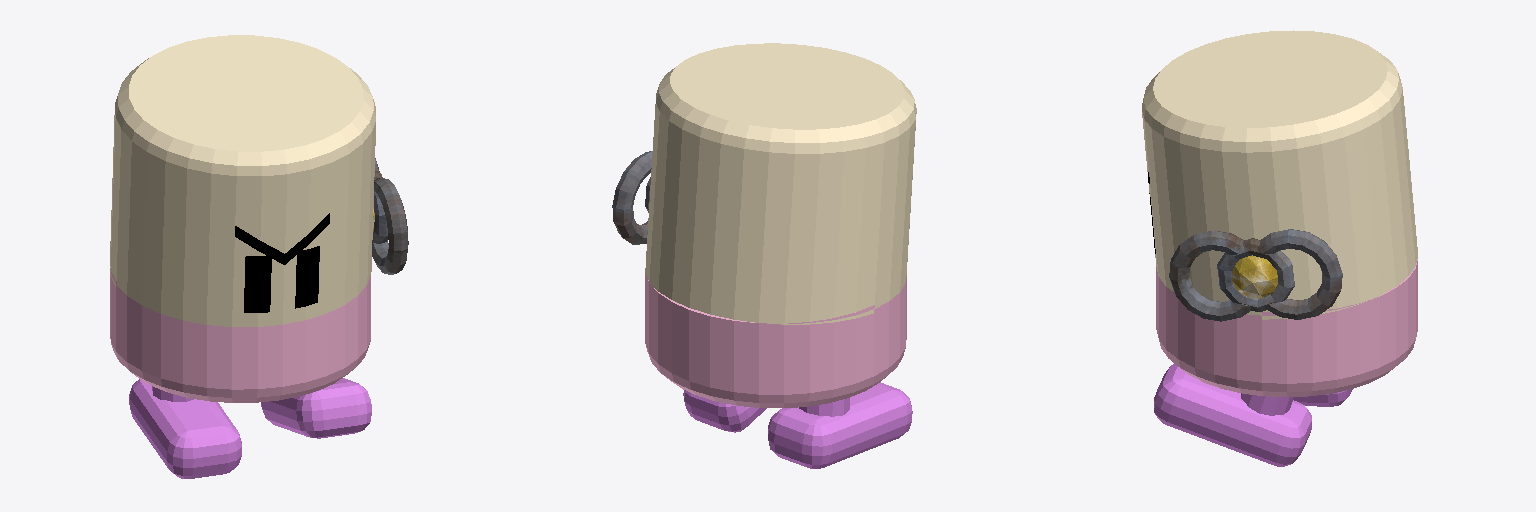
3 views of the same model, side by side, from view 1: azimuth 30°, elevation 25°; view 2: azimuth 150°, elevation 25°; view 3: azimuth 270°, elevation 25° (orthographic).
Parts seen in each view (by area): view 1: Head, Jaw, RightLeg, LeftLeg, WindupKey; view 2: Head, Jaw, RightLeg, WindupKey, LeftLeg; view 3: Head, Jaw, WindupKey, LeftLeg, RightLeg.
Part boxes in pixels (left/top/right/bottom): Head: left=110, top=35, right=375, bottom=326; Jaw: left=110, top=267, right=370, bottom=402; RightLeg: left=129, top=379, right=241, bottom=478; LeftLeg: left=261, top=378, right=371, bottom=438; WindupKey: left=372, top=158, right=408, bottom=274; Head: left=645, top=43, right=916, bottom=324; Jaw: left=645, top=274, right=906, bottom=407; RightLeg: left=768, top=382, right=912, bottom=468; WindupKey: left=612, top=151, right=652, bottom=244; LeftLeg: left=683, top=390, right=766, bottom=432; Head: left=1142, top=30, right=1417, bottom=319; Jaw: left=1156, top=259, right=1417, bottom=396; WindupKey: left=1169, top=229, right=1342, bottom=321; LeftLeg: left=1154, top=363, right=1311, bottom=466; RightLeg: left=1293, top=389, right=1352, bottom=406.
Bounding box in the file's own units: 113 × 150 × 106.
6 materials, 2 textured.